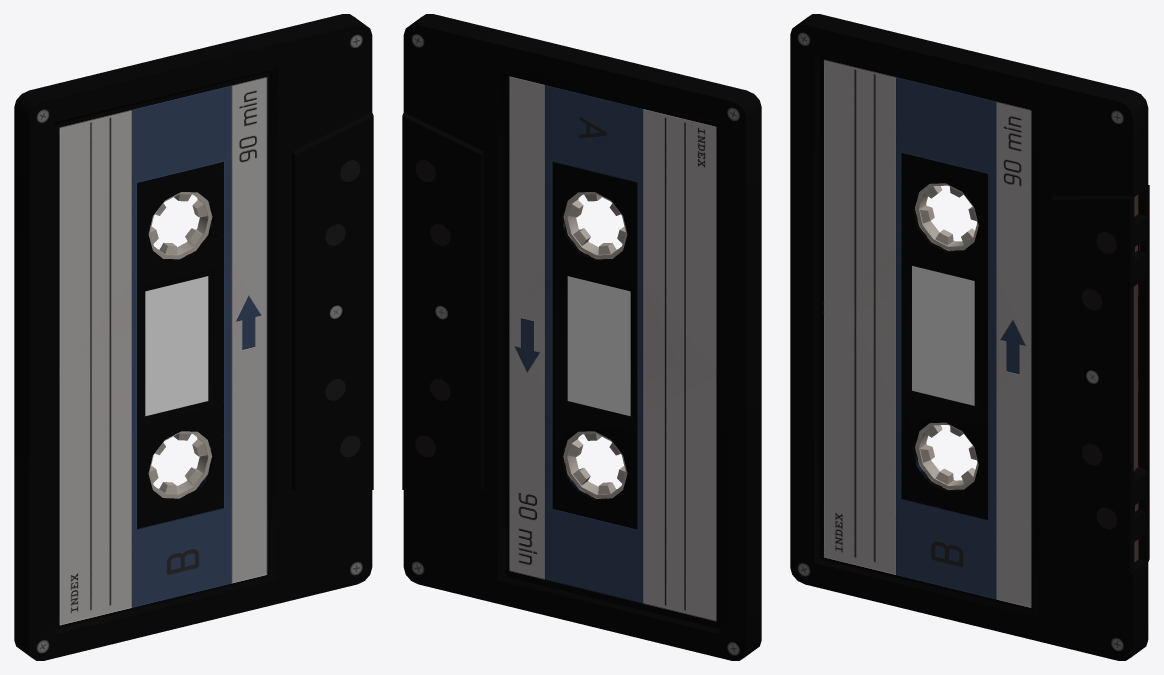
Rendered from uploads_files_4469780_Cassette.fbx.
The picture shows the model from 3 angles, left to right: view 1: azimuth 30°, elevation 25°; view 2: azimuth 150°, elevation 25°; view 3: azimuth 330°, elevation 25°; orthographic projection.
Parts seen in each view (by area): view 1: Cassette, Cassette.003, Weel_02.007, Weel_02.008; view 2: Cassette, Cassette.003, Weel_02.008, Weel_02.007; view 3: Cassette, Cassette.003, Weel_02.007, Weel_02.008.
Boxes of the visible parts, box(x1,y1,x2,y2) form: Cassette: box(14, 14, 373, 660); Cassette.003: box(145, 276, 208, 416); Weel_02.007: box(148, 192, 212, 259); Weel_02.008: box(148, 431, 212, 498); Cassette: box(402, 14, 761, 660); Cassette.003: box(567, 276, 630, 416); Weel_02.008: box(563, 431, 627, 498); Weel_02.007: box(563, 192, 627, 259); Cassette: box(790, 14, 1149, 660); Cassette.003: box(912, 266, 974, 405); Weel_02.007: box(915, 183, 978, 250); Weel_02.008: box(915, 422, 978, 489).
Bounding box in the file's own units: 10.32 × 16.08 × 1.02.
